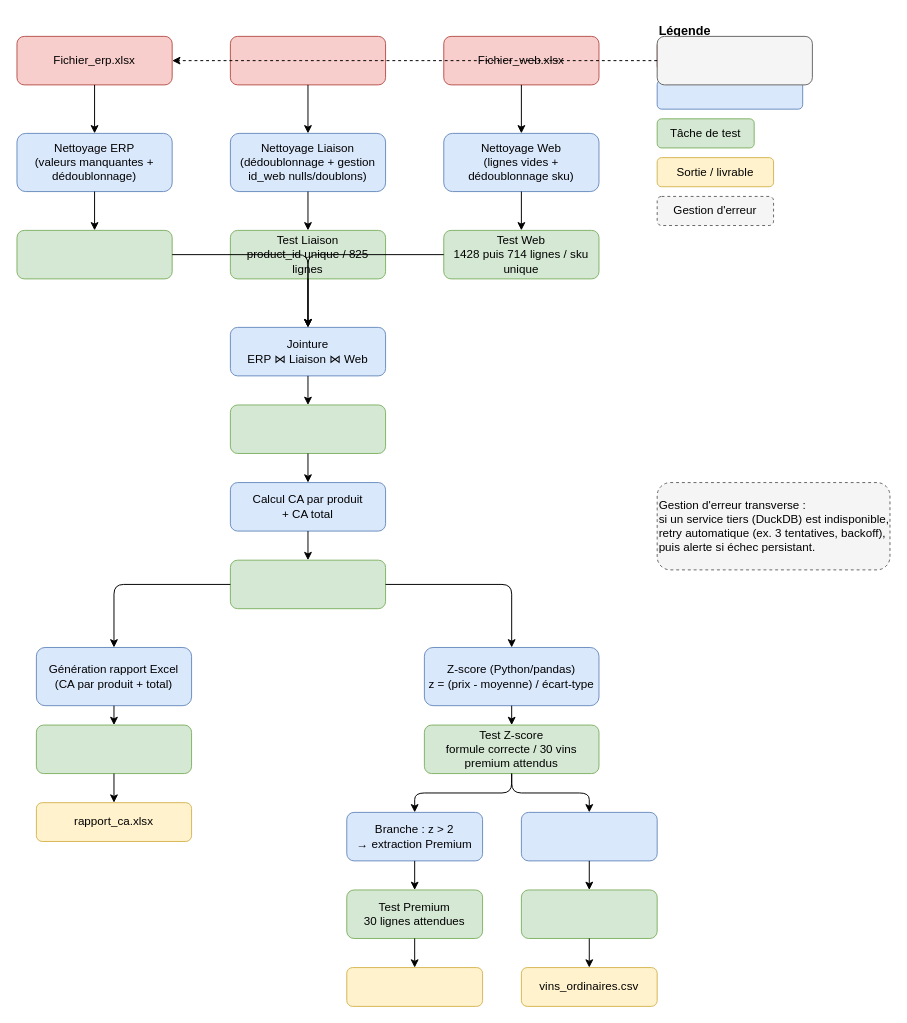
Some shapes in this 907 by 1023 pixel diagram are drawn without their labels. The centre of each missing label's shape, as x and y in pixels:
Branche : z <= 2 → extraction Ordinaire: the point at 588,836
fichier_liaison.xlsx: the point at 307,60
Test CA cohérence, total = 70 568,60 €: the point at 307,584
Test ERP 0 doublon / 0 null / 825 lignes: the point at 94,254
Test Jointure 714 lignes attendues / pas de perte suspecte: the point at 307,428
Test Ordinaire total = 714 - 30: the point at 588,913
Test Rapport fichier .xlsx généré, non vide: the point at 113,749
Trigger cron le 15 du mois à 9h: the point at 734,60
Tâche (nettoyage/traitement): the point at 729,94
vins_premium.csv: the point at 414,986
